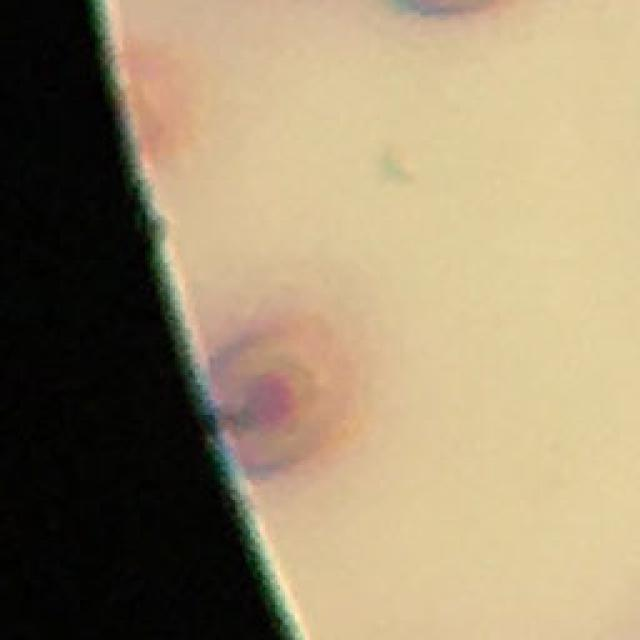RBC: (206, 319, 361, 486)
